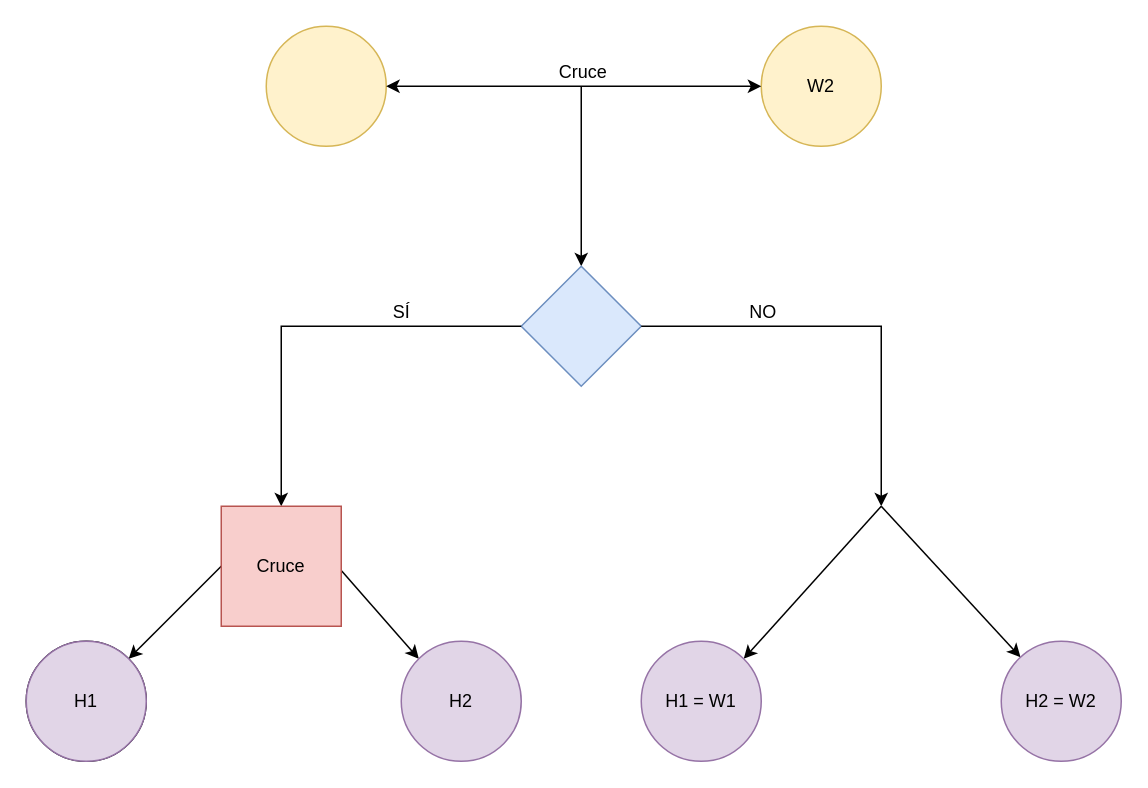
This 1148x788 diagram has some shape labels left out. Here are the shapes that lost their labels. From the top down, the box of each, then its label:
(265, 25, 386, 146): W1
(520, 265, 641, 386): prob_cruce
